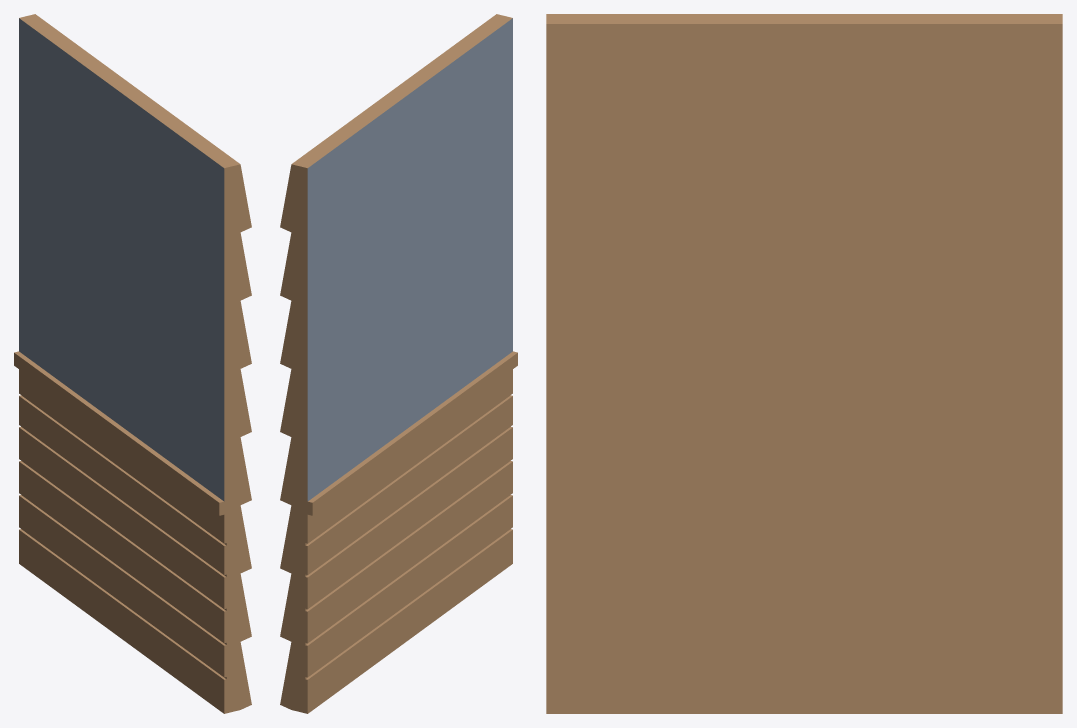
Rendered from Small Wall B-col.glb.
3 renders of one model, left to right at view 1: azimuth 30°, elevation 25°; view 2: azimuth 150°, elevation 25°; view 3: azimuth 270°, elevation 25°, orthographic. The views are drawn at different scales.
Parts seen in each view (by area): view 1: Small Wall B-col.001; view 2: Small Wall B-col.001; view 3: Small Wall B-col.001.
Part boxes in pixels (x1=…): Small Wall B-col.001: x1=14, y1=14, x2=251, y2=713; Small Wall B-col.001: x1=280, y1=14, x2=517, y2=713; Small Wall B-col.001: x1=546, y1=14, x2=1062, y2=713.
Size of the model in its own units: 0.1378 by 2.2 by 1.5.
